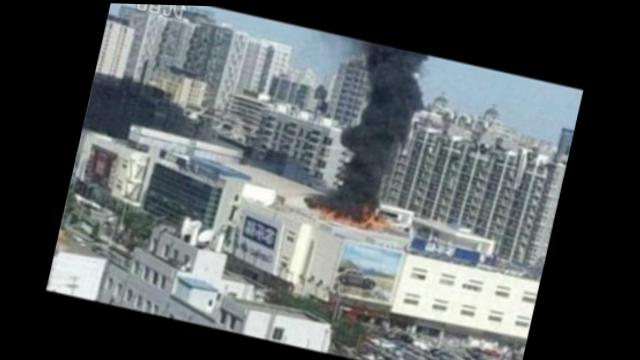fire: (317, 205, 372, 225), (366, 211, 391, 224)
